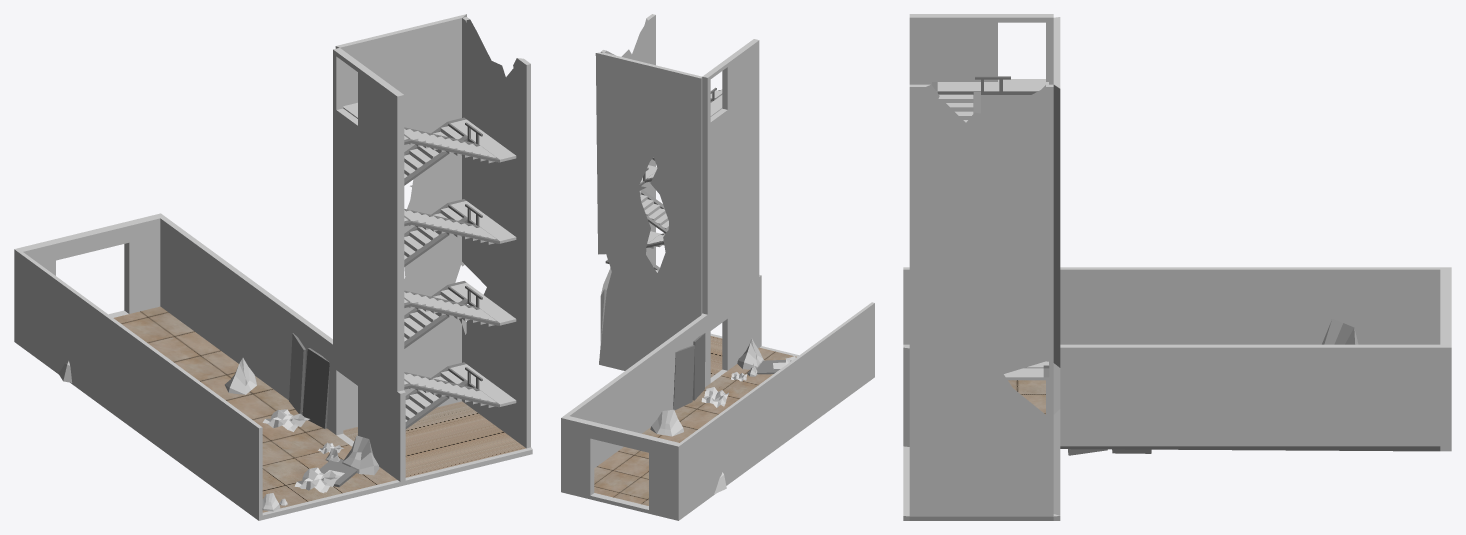
The model's file is escape.glb.
3 views of the same model, side by side, from view 1: azimuth 30°, elevation 25°; view 2: azimuth 150°, elevation 25°; view 3: azimuth 270°, elevation 25° (orthographic). The views are drawn at different scales.
Visible parts, largest first — view 1: Plano.001, Cubo.016, Cubo.010, Cubo.008, Cubo.018, Cubo.001, Cubo.007, Cubo.015, Cubo.009, Cubo.017, Cubo.002, Cubo.026 (+3 smaller); view 2: Plano.001, Cubo.002, Cubo.010, Cubo.001, Cubo.028, Cubo.026, Plano subdividido.005; view 3: Plano.001, Cubo.007, Cubo.031.
Boxes of the visible parts, bbox=[...] form: Plano.001: bbox=[14, 14, 532, 520]; Cubo.016: bbox=[404, 281, 516, 348]; Cubo.010: bbox=[404, 199, 516, 266]; Cubo.008: bbox=[404, 117, 516, 185]; Cubo.018: bbox=[405, 362, 516, 429]; Cubo.001: bbox=[302, 348, 329, 428]; Cubo.007: bbox=[343, 102, 498, 163]; Cubo.015: bbox=[404, 290, 498, 326]; Cubo.009: bbox=[404, 209, 498, 244]; Cubo.017: bbox=[404, 372, 498, 407]; Cubo.002: bbox=[289, 333, 305, 414]; Cubo.026: bbox=[342, 435, 379, 475]; Plano.001: bbox=[561, 14, 874, 520]; Cubo.002: bbox=[673, 345, 694, 410]; Cubo.010: bbox=[639, 165, 668, 233]; Cubo.001: bbox=[692, 333, 705, 400]; Cubo.028: bbox=[650, 409, 683, 436]; Cubo.026: bbox=[737, 337, 764, 369]; Plano subdividido.005: bbox=[701, 387, 728, 407]; Plano.001: bbox=[903, 14, 1451, 520]; Cubo.007: bbox=[932, 76, 1048, 122]; Cubo.031: bbox=[1322, 318, 1358, 344].
Bounding box in the file's own units: 35.92 × 47.77 × 53.7.
Materials: 8 (1 with a texture image).
